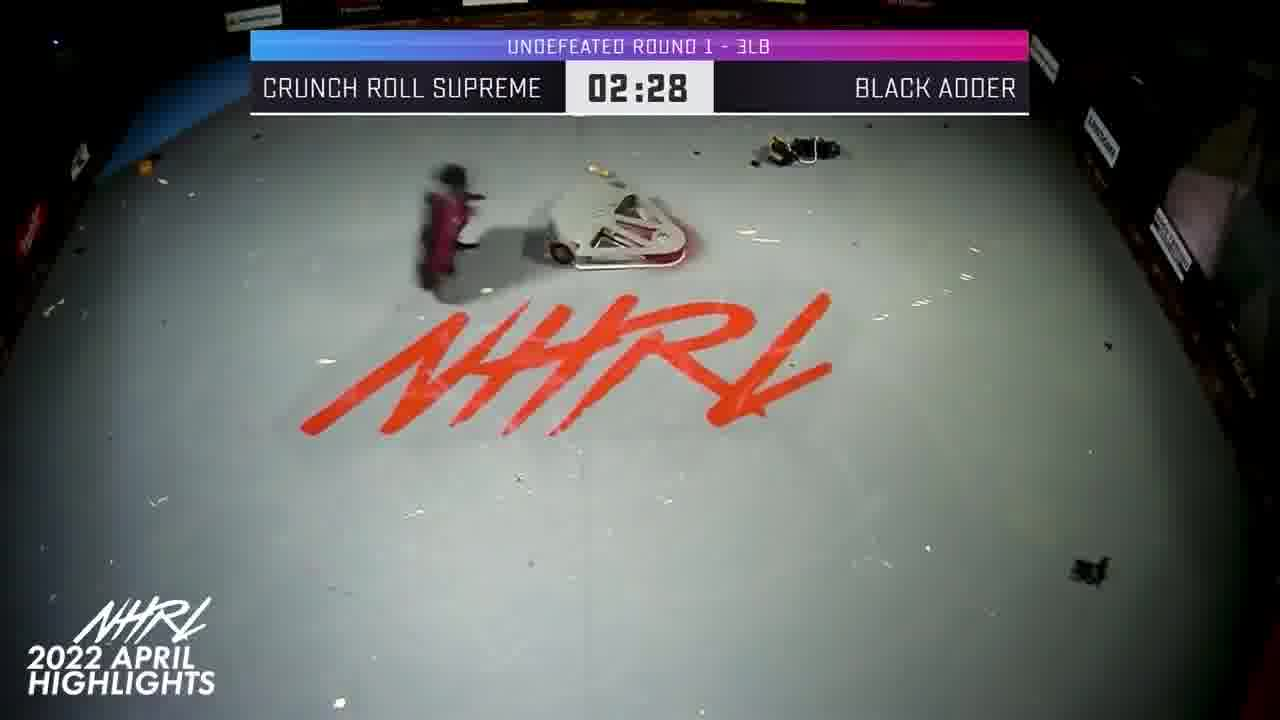combatbot: (543, 167, 683, 271), (415, 160, 488, 288)
debris: (746, 134, 845, 167), (1069, 551, 1107, 586)
